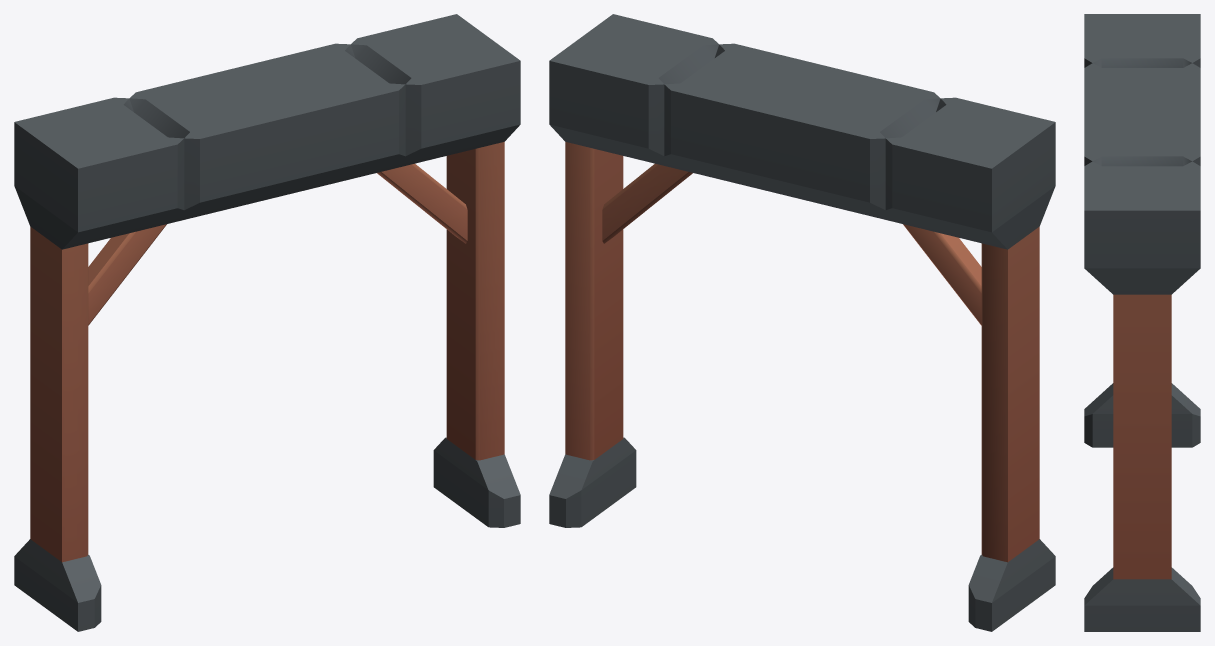
Rendered from wall_open_scaffold.gltf.
The picture shows the model from 3 angles, left to right: view 1: azimuth 30°, elevation 25°; view 2: azimuth 150°, elevation 25°; view 3: azimuth 270°, elevation 25°; orthographic projection. The views are drawn at different scales.
Parts seen in each view (by area): view 1: wall_open_scaffold; view 2: wall_open_scaffold; view 3: wall_open_scaffold.
Boxes of the visible parts, x1,y1,x2,y2 form: wall_open_scaffold: (14, 14, 520, 631); wall_open_scaffold: (549, 14, 1055, 631); wall_open_scaffold: (1084, 14, 1200, 631).
Size of the model in its own units: 4 by 4 by 1.
Materials: 1 (1 with a texture image).
